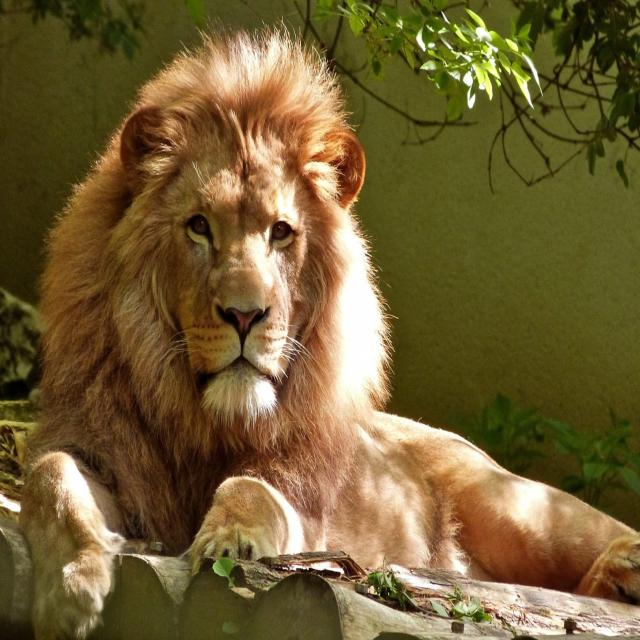Animals: (62, 5, 403, 513)
